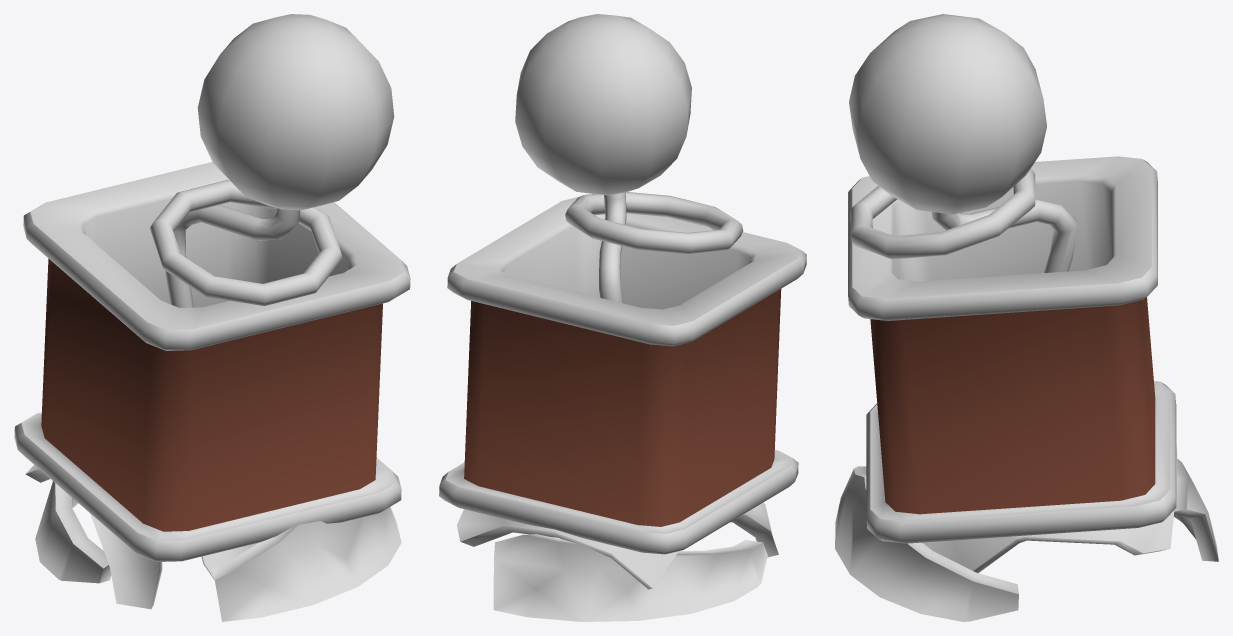
File: LightningBox1.fbx
3 views of the same model, side by side, from view 1: azimuth 30°, elevation 25°; view 2: azimuth 150°, elevation 25°; view 3: azimuth 270°, elevation 25° (orthographic). The views are drawn at different scales.
Visible parts, largest first — view 1: electricenemey.001; view 2: electricenemey.001; view 3: electricenemey.001.
Part boxes in pixels (x1,y1,x2,y2): electricenemey.001: (14, 14, 410, 621); electricenemey.001: (439, 14, 806, 621); electricenemey.001: (835, 14, 1218, 621).
Size of the model in its own units: 218 by 358 by 227.
